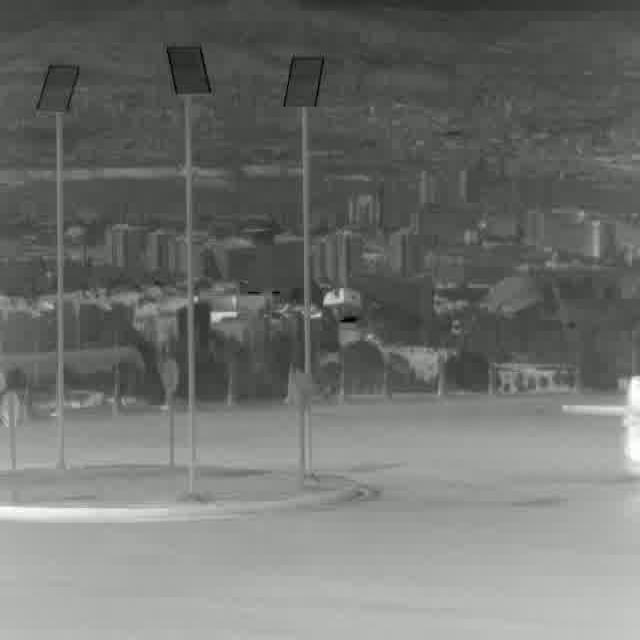Car: (620, 377, 640, 484)
